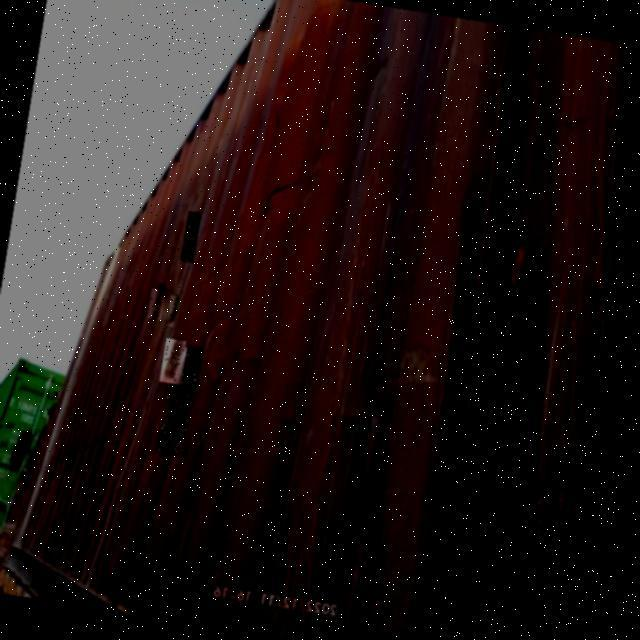Rust: (158, 349, 203, 455), (162, 340, 184, 382), (183, 214, 200, 261), (149, 290, 166, 319), (169, 297, 177, 322)
